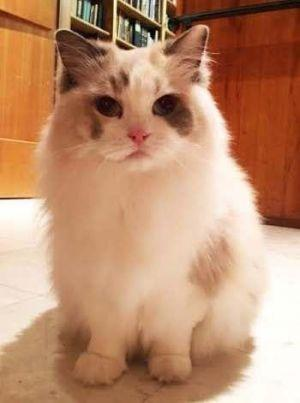ragdoll: (46, 11, 222, 188)
